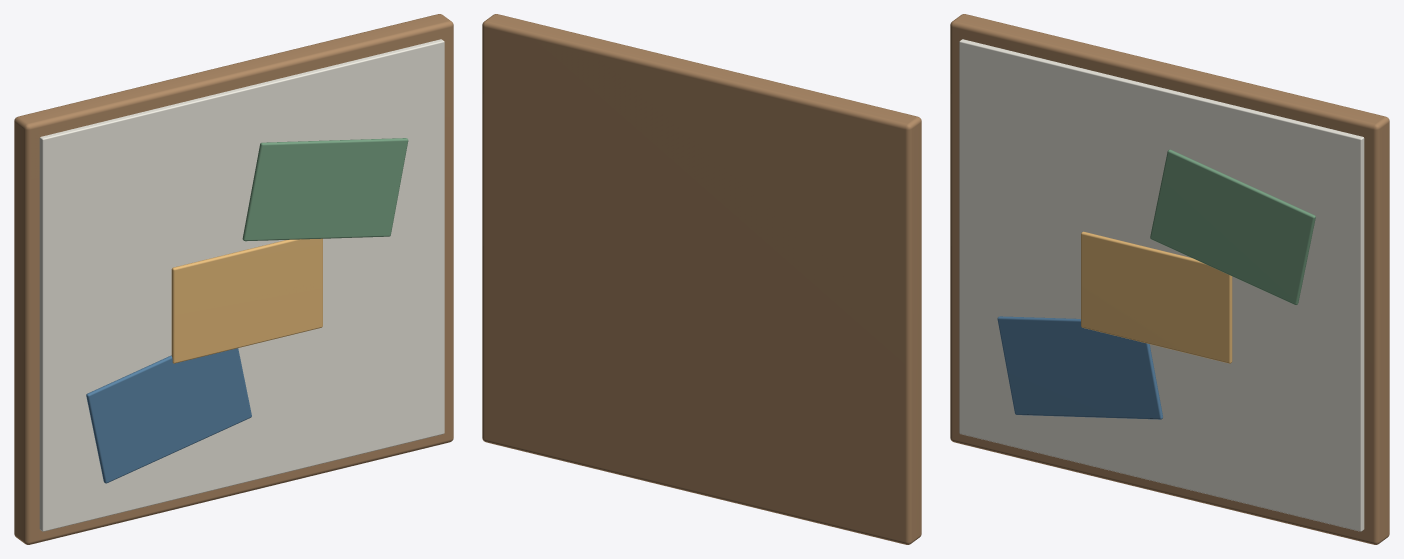
The model's file is atelier-canvas-artwork.glb.
The picture shows the model from 3 angles, left to right: view 1: azimuth 30°, elevation 25°; view 2: azimuth 150°, elevation 25°; view 3: azimuth 330°, elevation 25°; orthographic projection.
Visible parts, largest first — view 1: ceramic.020, legs.112, artGreen.004, artGold.003, artBlue.003; view 2: legs.112; view 3: ceramic.020, legs.112, artGreen.004, artGold.003, artBlue.003.
Boxes of the visible parts, box(x1,y1,x2,y2) form: ceramic.020: box(39, 39, 444, 531); legs.112: box(14, 14, 453, 544); artGreen.004: box(242, 138, 408, 241); artGold.003: box(171, 238, 322, 363); artBlue.003: box(86, 348, 251, 483); legs.112: box(482, 14, 921, 544); ceramic.020: box(959, 39, 1364, 531); legs.112: box(950, 14, 1389, 544); artGreen.004: box(1150, 149, 1315, 304); artGold.003: box(1081, 231, 1232, 363); artBlue.003: box(997, 316, 1162, 419).
Size of the model in its own units: 0.8 by 0.75 by 0.0725.
